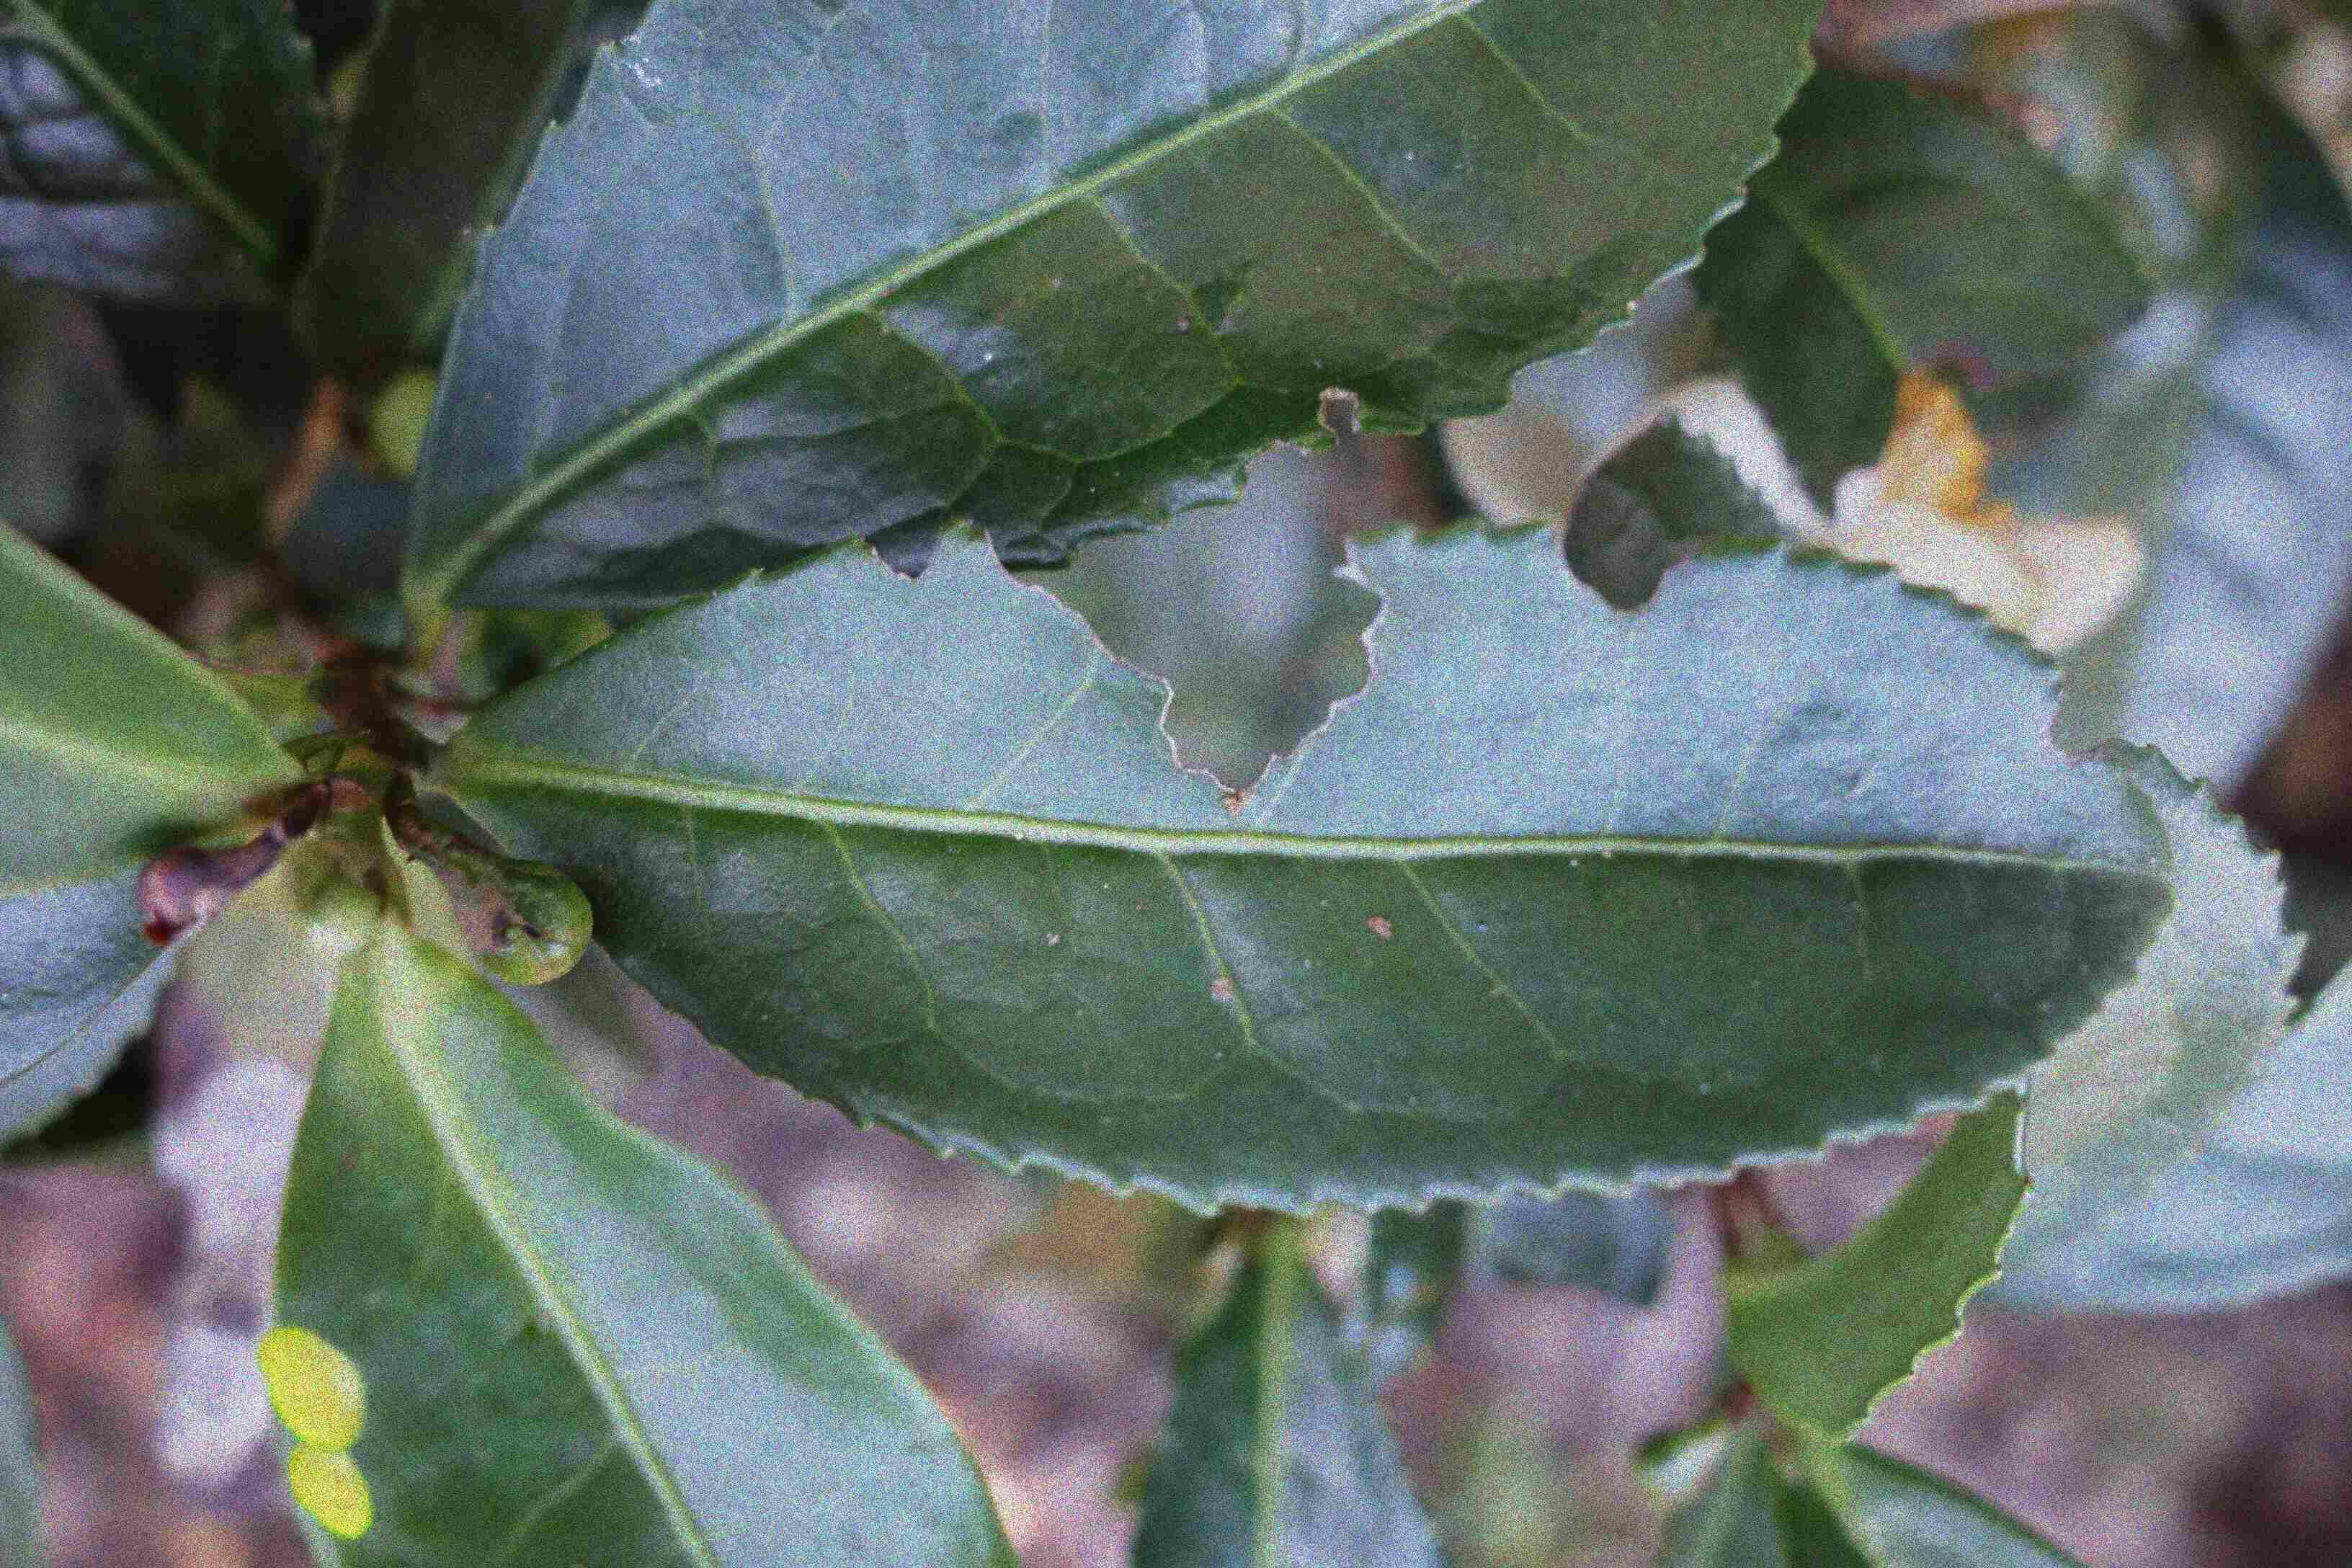chabing_high: (264, 913, 1017, 1563)
chihuo_high: (430, 506, 2161, 1221)
chihuo_low: (404, 3, 1834, 616)
